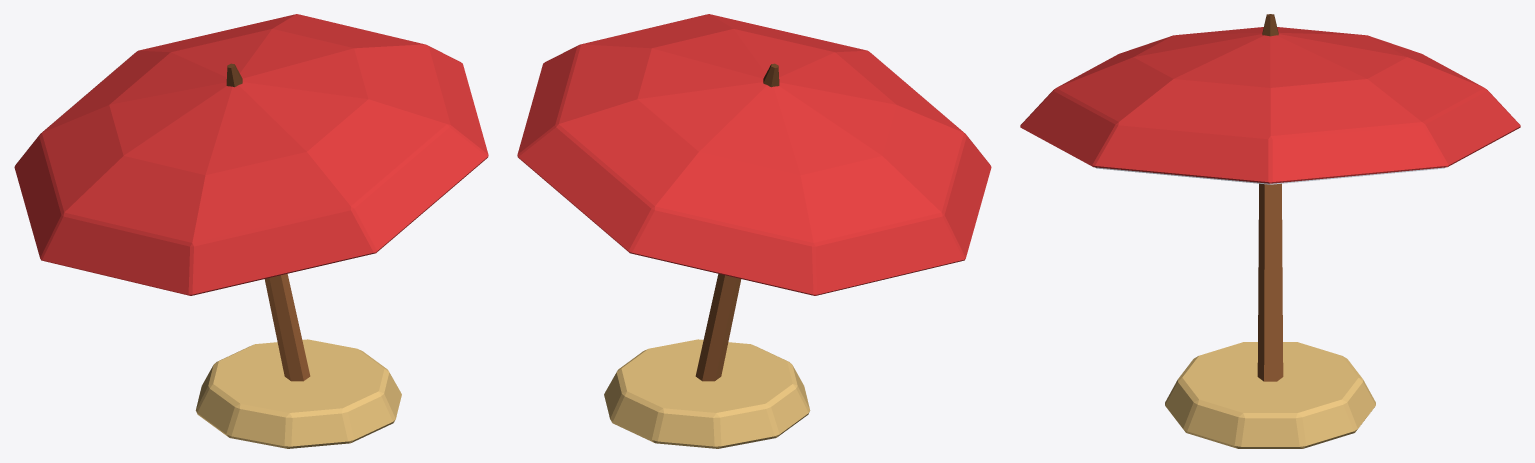
File: parasol-1x1.glb
The picture shows the model from 3 angles, left to right: view 1: azimuth 30°, elevation 25°; view 2: azimuth 150°, elevation 25°; view 3: azimuth 270°, elevation 25°; orthographic projection.
Parts seen in each view (by area): view 1: parasol-1x1; view 2: parasol-1x1; view 3: parasol-1x1.
Boxes of the visible parts, box(x1,y1,x2,y2) form: parasol-1x1: box(14, 14, 488, 448); parasol-1x1: box(517, 14, 991, 448); parasol-1x1: box(1020, 14, 1520, 448).
Bounding box in the file's own units: 0.8809 × 0.7167 × 0.9.
Materials: 1 (1 with a texture image).
